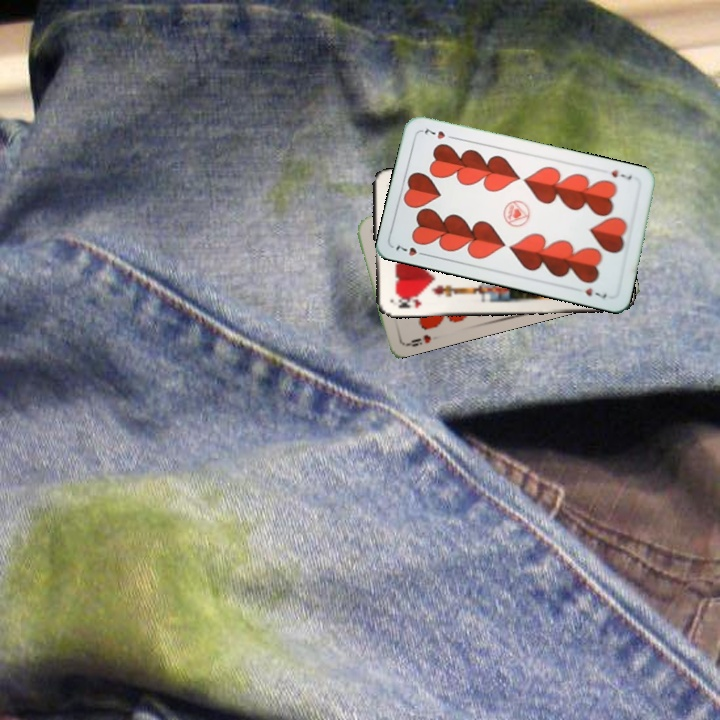H7: (392, 241, 431, 259), (607, 166, 635, 183)
H9: (400, 330, 434, 349)
HK: (394, 292, 424, 311)
